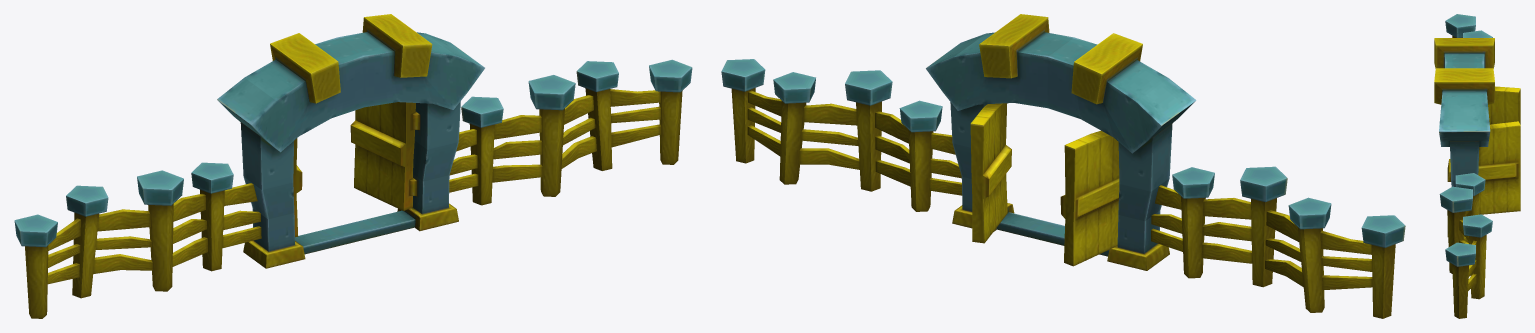
The model's file is tenkei_gate01.obj.
3 renders of one model, left to right at view 1: azimuth 30°, elevation 25°; view 2: azimuth 150°, elevation 25°; view 3: azimuth 270°, elevation 25°, orthographic. The views are drawn at different scales.
Visible parts, largest first — view 1: tenkei_gate01.001; view 2: tenkei_gate01.001; view 3: tenkei_gate01.001.
Boxes of the visible parts, x1=… form: tenkei_gate01.001: x1=14, y1=14, x2=692, y2=318; tenkei_gate01.001: x1=721, y1=14, x2=1405, y2=318; tenkei_gate01.001: x1=1434, y1=14, x2=1520, y2=318.
Size of the model in its own units: 8.17 by 2.29 by 1.23.
Materials: 1 (1 with a texture image).
